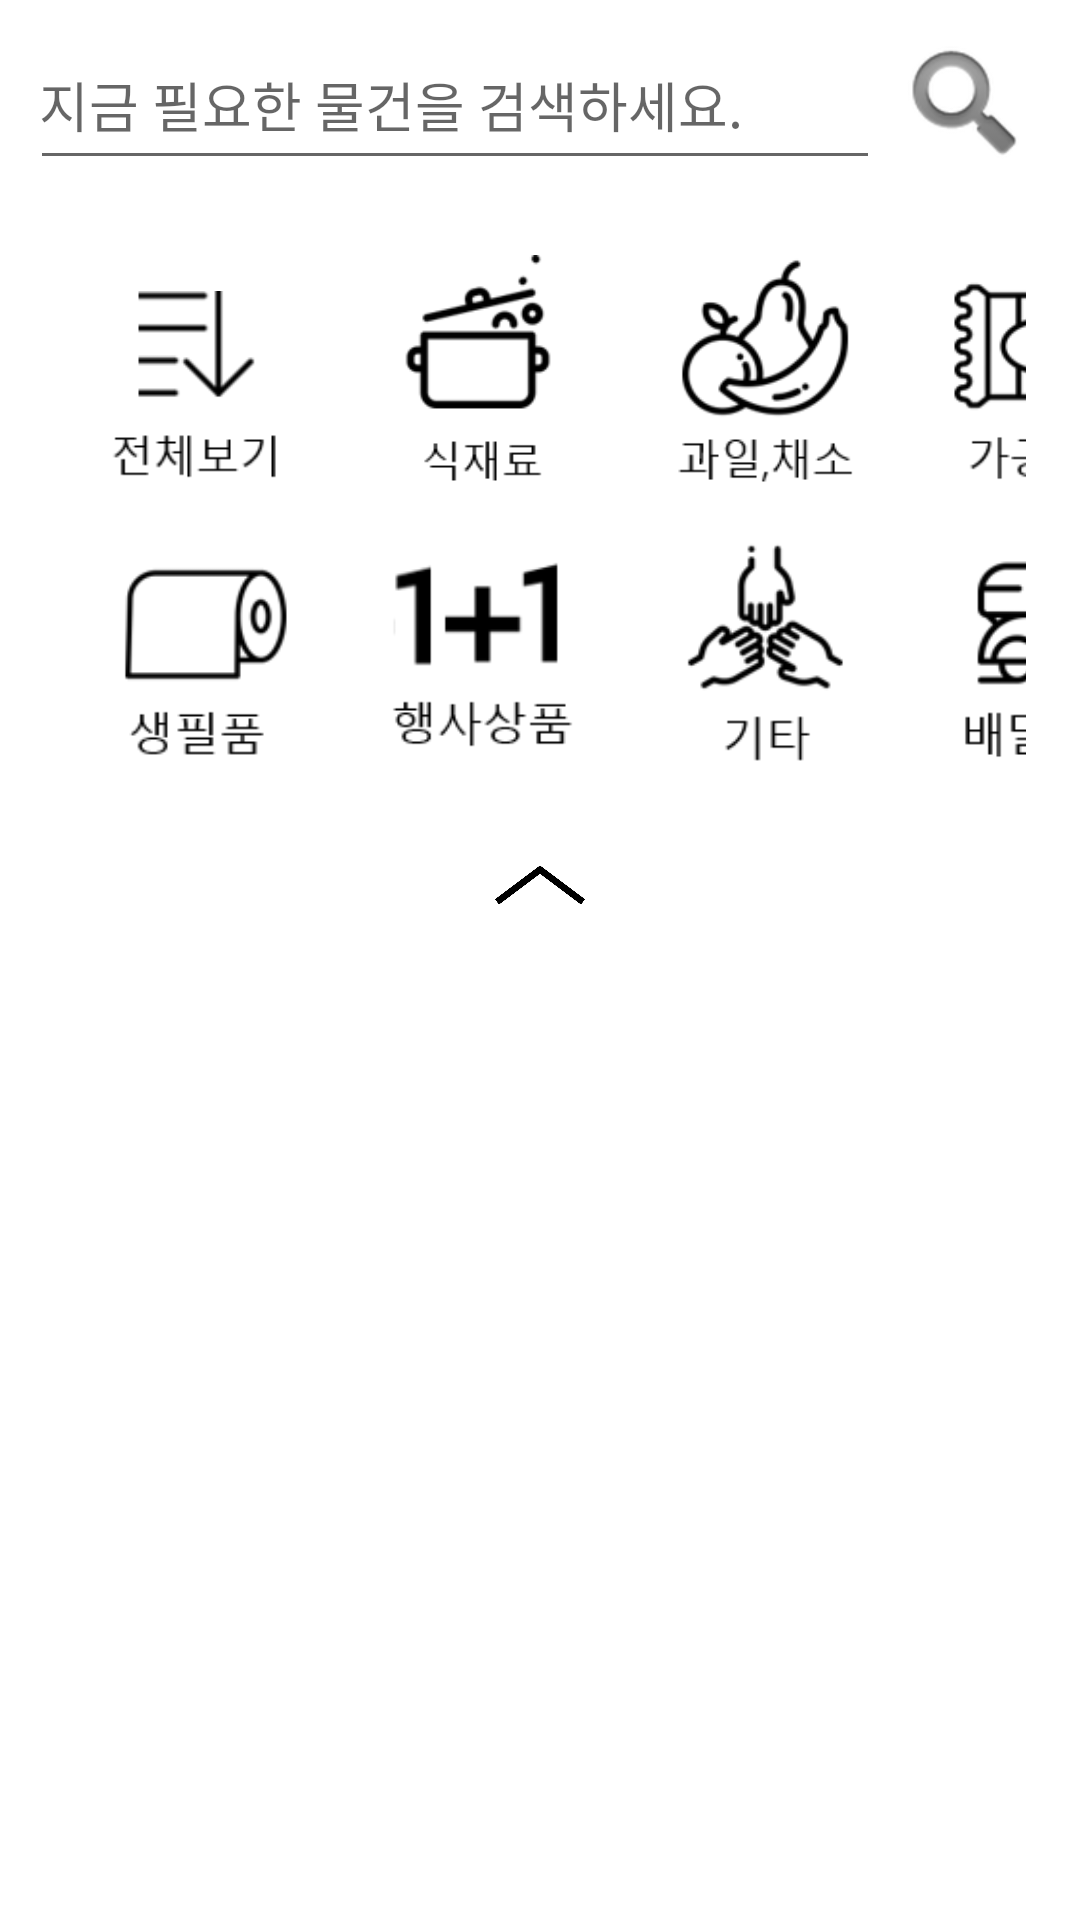

Screen size 1080w x 1920h. Icon name, then its box in pixels as (x1, y1, x2, y2):
search category: (912, 50, 1016, 154)
up chevron: (495, 866, 585, 904)
